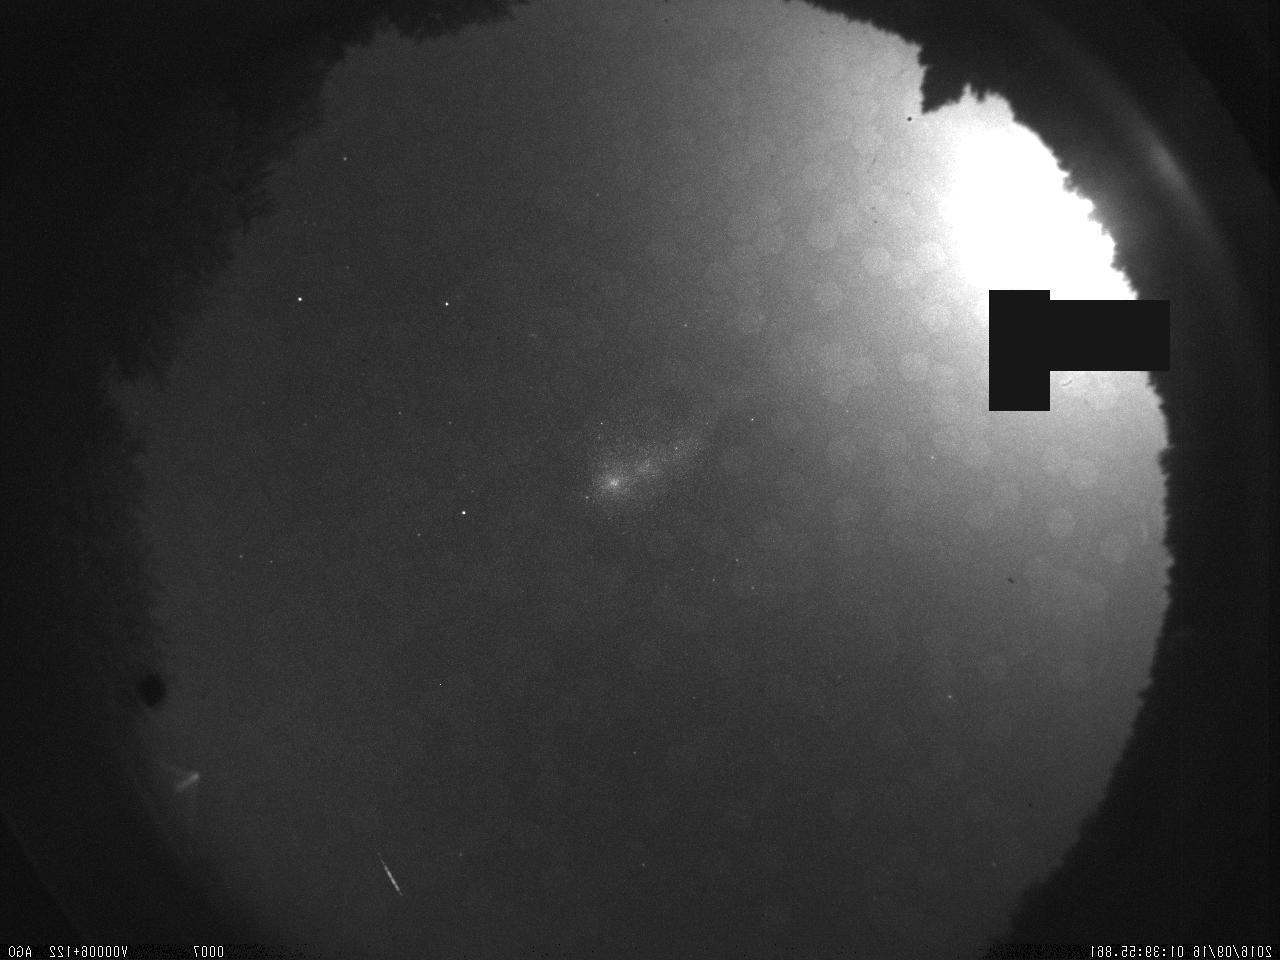meteor: (364, 847, 413, 908)
